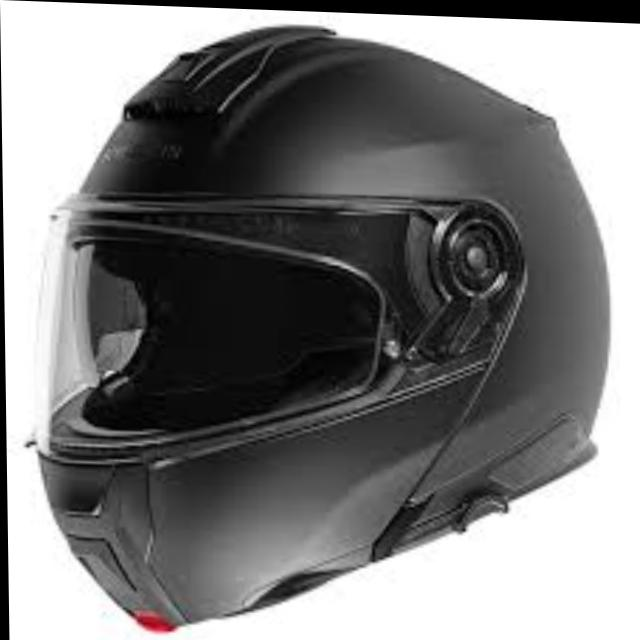motorcycle-helmets: (25, 12, 624, 640)
